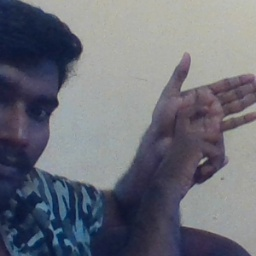R: (143, 50, 256, 195)
